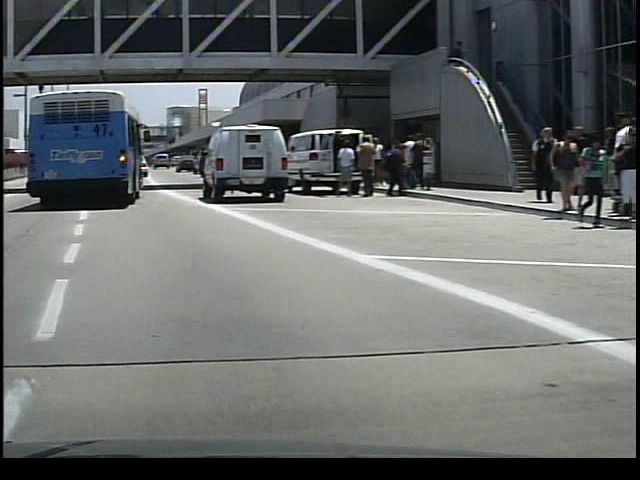person: (328, 134, 352, 196), (352, 137, 374, 200)
